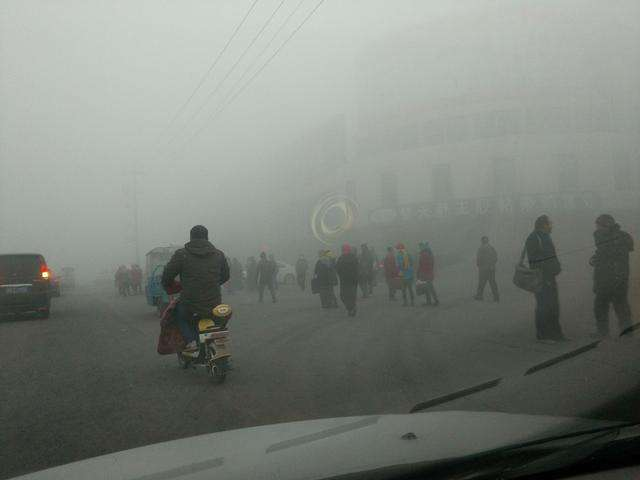person: (159, 224, 232, 382), (514, 214, 573, 344), (589, 214, 637, 339), (334, 243, 362, 316), (474, 235, 501, 301), (414, 239, 438, 306), (313, 249, 340, 306), (395, 244, 419, 306), (354, 242, 375, 298), (380, 244, 399, 300), (256, 249, 275, 303), (267, 252, 280, 290), (295, 253, 308, 290), (242, 256, 256, 290), (230, 257, 242, 290), (113, 265, 125, 295), (127, 263, 139, 292), (123, 261, 133, 294), (135, 263, 145, 292)
